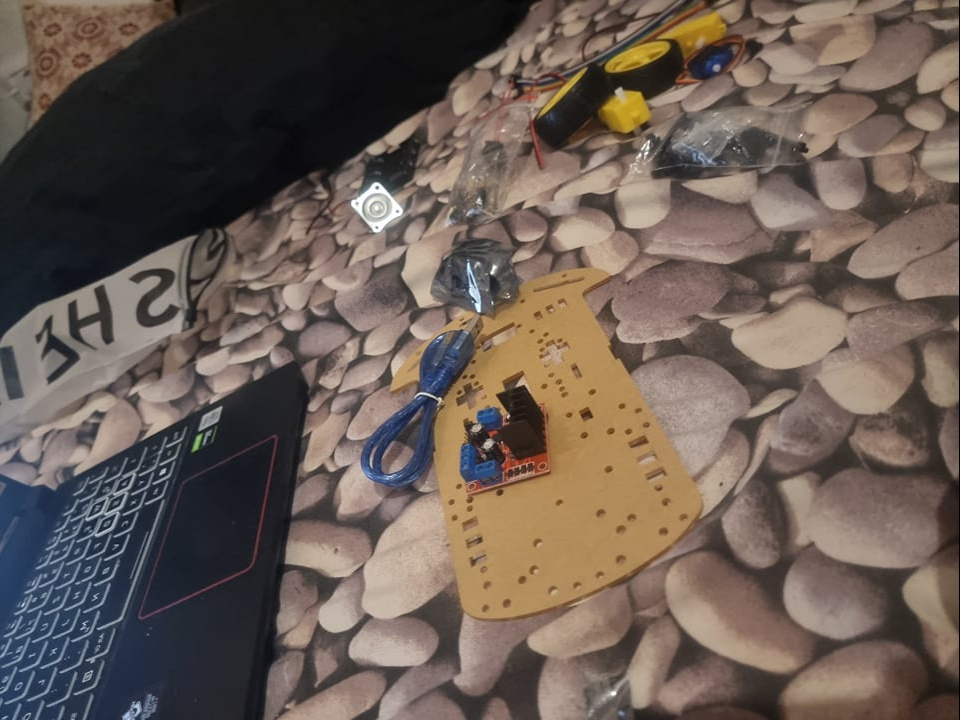BATTERY BOX: (361, 132, 425, 187)
MOTOR: (461, 382, 557, 499)
